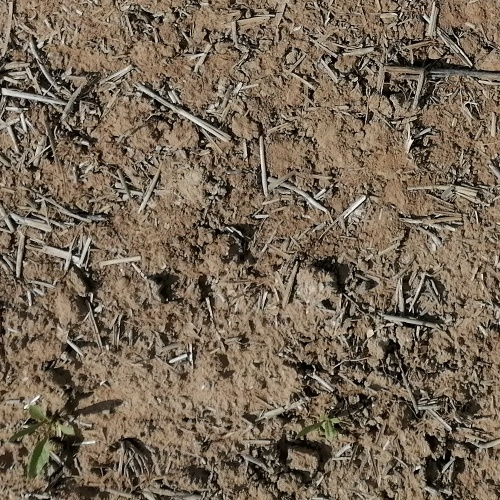beet: (19, 404, 75, 478), (292, 404, 345, 446)
